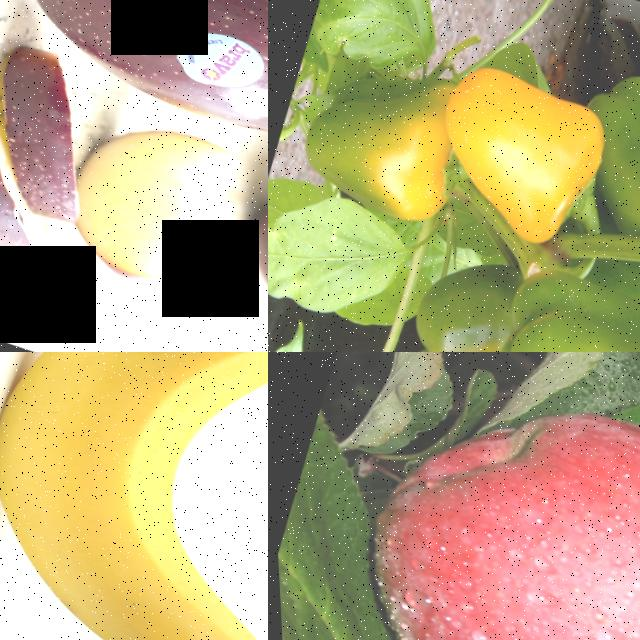apple: (321, 356, 640, 640), (0, 0, 268, 182), (49, 99, 256, 315), (0, 33, 131, 229), (0, 108, 70, 273)
banana: (0, 352, 268, 640)
bell pepper: (412, 44, 640, 256), (294, 62, 467, 225), (444, 275, 640, 352), (368, 254, 504, 352), (597, 80, 640, 264)
